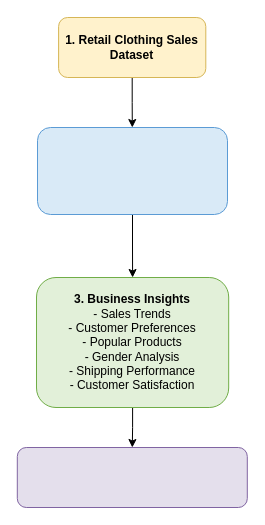
This 265x525 diagram has some shape labels left out. Each missing label, with the centre of its shape:
"2. Data Analysis - Pivot Tables - Pivot Charts - KPI Calculations" goes at (x=132, y=170).
"4. Executive Analytics Dashboard" goes at (x=131, y=477).
